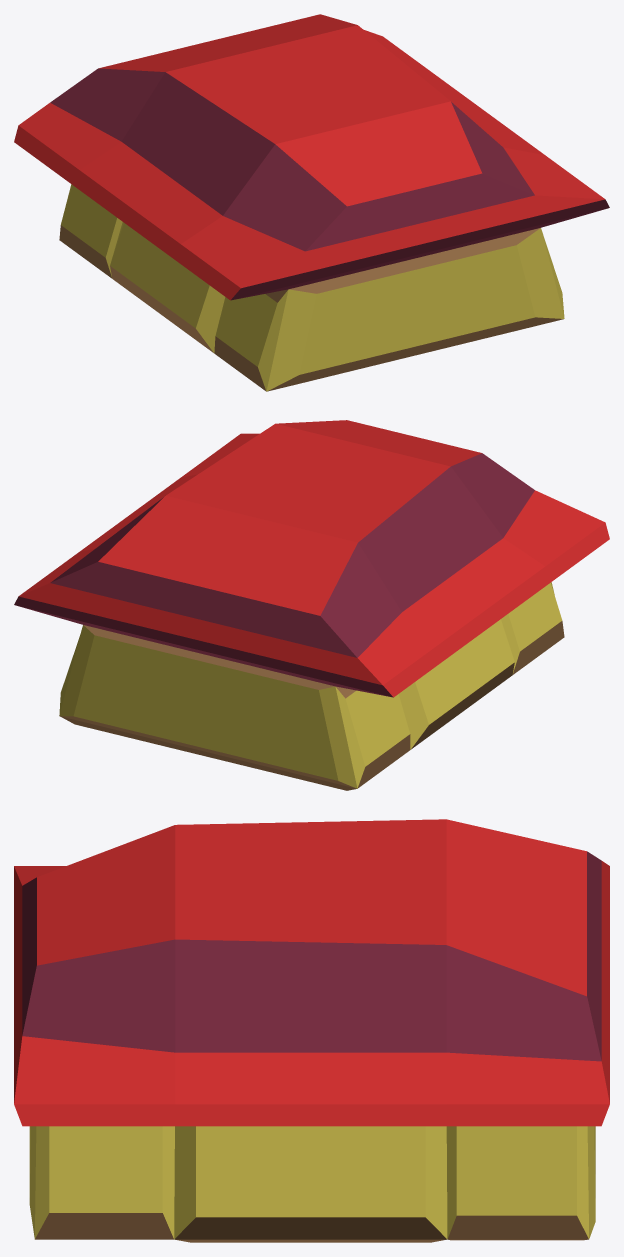
File: caterpillarbody.fbx
3 renders of one model, top to bottom at view 1: azimuth 30°, elevation 25°; view 2: azimuth 150°, elevation 25°; view 3: azimuth 270°, elevation 25°, orthographic. The views are drawn at different scales.
Parts seen in each view (by area): view 1: Cube; view 2: Cube; view 3: Cube.
Boxes of the visible parts, <box> form: Cube: <box>14,14,609,391</box>; Cube: <box>14,420,609,790</box>; Cube: <box>14,819,609,1242</box>.
Size of the model in its own units: 193 by 100 by 196.
